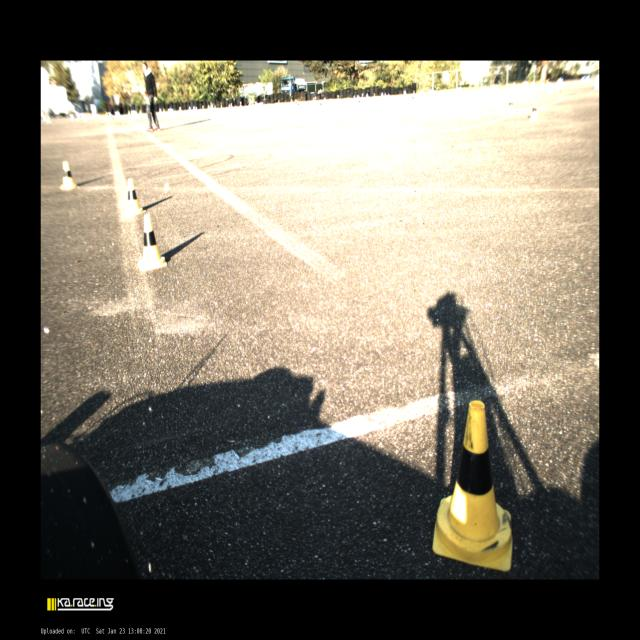blue_cone: (188, 105, 192, 112), (192, 105, 196, 112), (195, 105, 198, 112), (159, 108, 162, 114), (207, 104, 210, 110)
yellow_cone: (433, 400, 512, 572), (138, 213, 168, 270), (122, 178, 146, 216), (60, 161, 76, 190), (528, 100, 541, 124), (127, 110, 131, 117), (162, 108, 166, 114), (178, 106, 182, 112), (220, 102, 223, 109), (139, 110, 142, 116), (214, 104, 217, 110), (202, 105, 204, 111)
